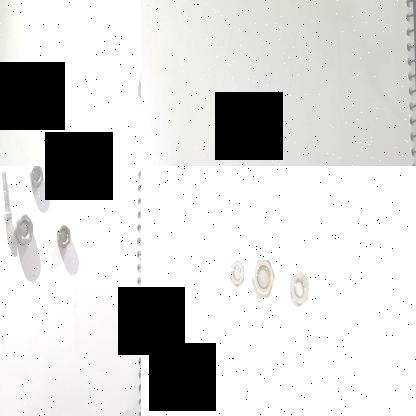Bolts: (0, 168, 12, 224)
NUTS: (288, 264, 315, 310), (252, 257, 276, 304), (227, 254, 247, 294), (14, 214, 36, 249), (55, 219, 73, 252), (28, 166, 46, 191), (136, 55, 141, 105)
